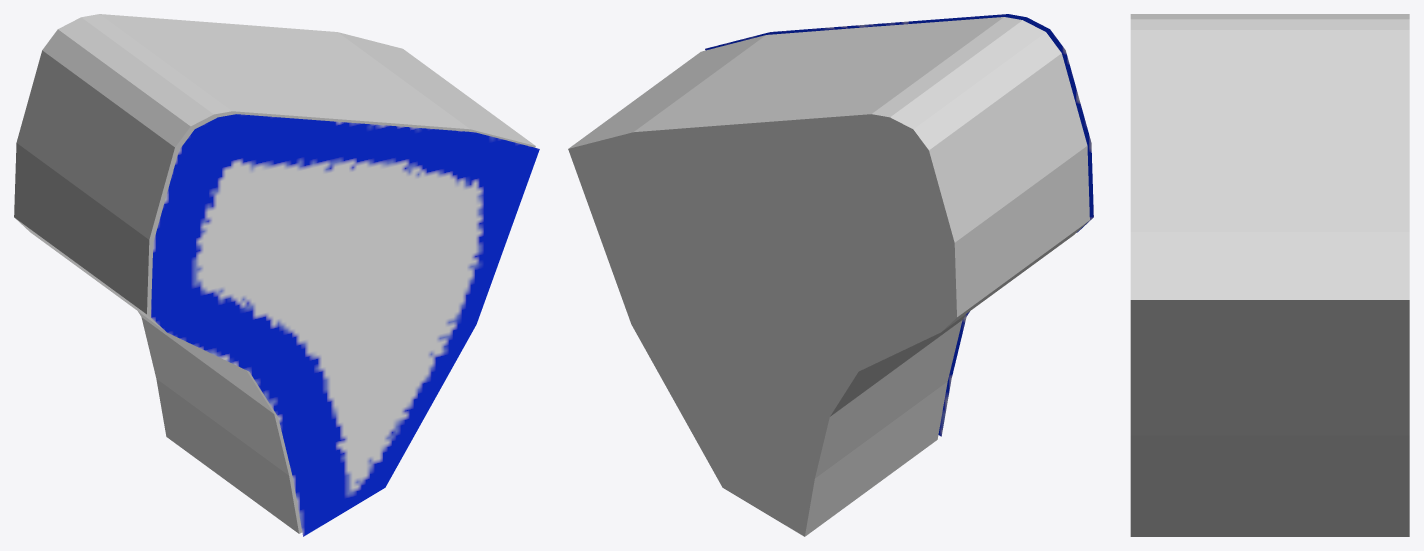
3 renders of one model, left to right at view 1: azimuth 30°, elevation 25°; view 2: azimuth 150°, elevation 25°; view 3: azimuth 270°, elevation 25°, orthographic. The views are drawn at different scales.
Parts seen in each view (by area): view 1: In_1_1, In_1_0; view 2: In_1_0, In_1_1; view 3: In_1_0.
Boxes of the visible parts, bbox=[...] form: In_1_1: bbox=[151, 114, 539, 536]; In_1_0: bbox=[14, 14, 535, 533]; In_1_0: bbox=[568, 17, 1089, 536]; In_1_1: bbox=[705, 14, 1093, 436]; In_1_0: bbox=[1130, 14, 1409, 536].
Bounding box in the file's own units: 0.8453 × 0.9145 × 0.515.
Materials: 2 (1 with a texture image).
